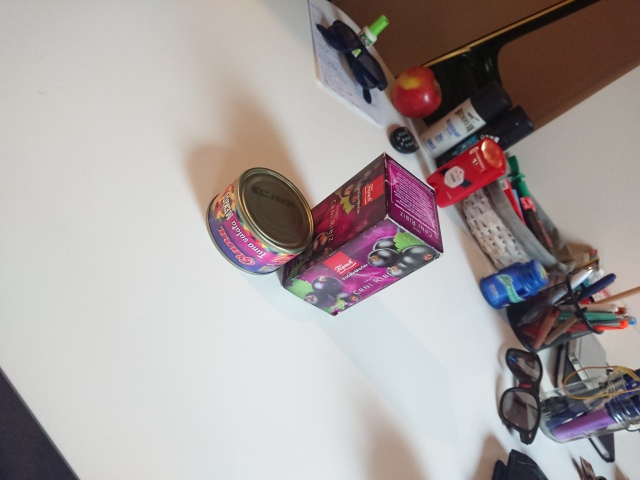Franck Black Currant Tea 60g: (279, 148, 445, 320)
Giana Tuna Salad Mexico 185g: (203, 165, 316, 278)
